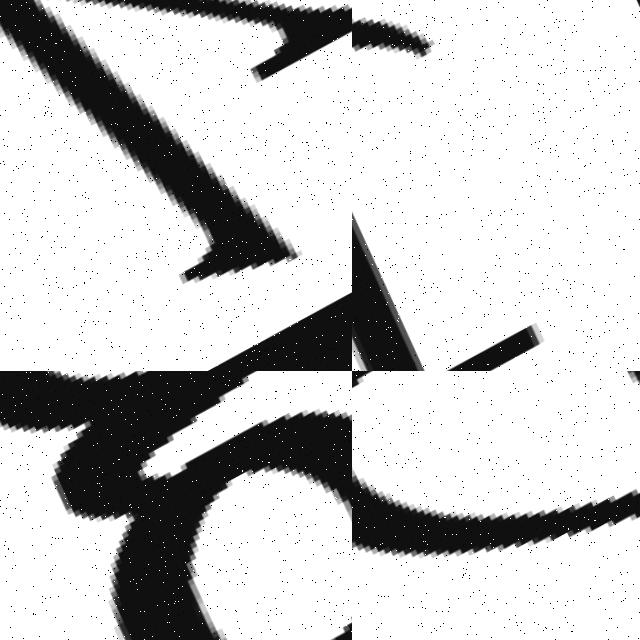A: (352, 371, 640, 640)
G: (0, 371, 352, 640)
K: (0, 0, 352, 371)
T: (352, 0, 640, 371)
